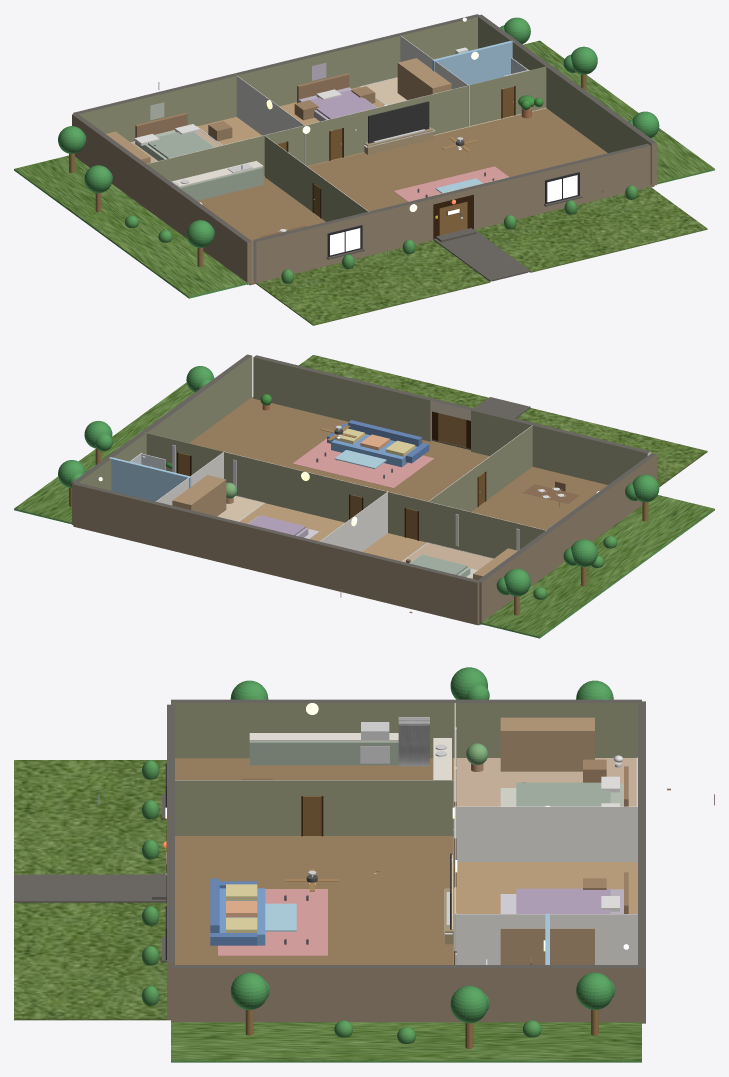
Rendered from casa_domotica_blender.glb.
The picture shows the model from 3 angles, top to bottom: view 1: azimuth 30°, elevation 25°; view 2: azimuth 150°, elevation 25°; view 3: azimuth 270°, elevation 25°; orthographic projection. The views are drawn at different scales.
Visible parts, largest first — view 1: floor_main, wall_ext_N, lawn_front_left, lawn_front_right, garden_left, wall_ext_W, wall_ext_SL, wall_ext_SR, wall_ext_E, garden_right, room2_wall_S_segR, room1_wall_S_segL (+32 smaller); view 2: wall_ext_N, floor_main, garden_left, wall_ext_SR, wall_ext_W, wall_ext_SL, wall_ext_E, room2_wall_S_segR, room1_wall_S_segL, lawn_front_left, garden_right, lawn_front_right (+29 smaller); view 3: floor_main, wall_ext_E, garden_right, wall_ext_W, lawn_front_right, lawn_front_left, room1_wall_E, living_wall_W_segR, living_wall_W_segL, room2_floor, bath_wall_E, r1_wardrobe (+22 smaller).
Part boxes in pixels (x1,y1,x2,y2): floor_main: (197,108,654,285); wall_ext_N: (73,14,478,142); lawn_front_left: (256,240,490,325); lawn_front_right: (475,187,707,272); garden_left: (14,155,247,297); wall_ext_W: (72,114,252,284); wall_ext_SL: (253,196,433,283); wall_ext_SR: (471,143,650,229); wall_ext_E: (477,14,656,185); garden_right: (523,40,714,184); room2_wall_S_segR: (343,85,467,156); room1_wall_S_segL: (147,133,274,181); wall_ext_N: (73,482,480,625); floor_main: (179,397,607,624); garden_left: (480,495,714,637); wall_ext_SR: (253,355,432,441); wall_ext_W: (478,453,656,624); wall_ext_SL: (471,408,650,484); wall_ext_E: (72,354,252,524); room2_wall_S_segR: (225,452,349,522); room1_wall_S_segL: (418,499,546,558); lawn_front_left: (516,408,707,486); garden_right: (14,382,194,522); lawn_front_right: (299,355,488,408); floor_main: (175,758,453,964); wall_ext_E: (171,965,641,1022); garden_right: (171,1022,641,1061); wall_ext_W: (171,699,641,758); lawn_front_right: (14,902,170,1020); lawn_front_left: (14,760,166,874); room1_wall_E: (453,806,637,861); living_wall_W_segR: (322,780,453,835); living_wall_W_segL: (175,780,301,835); room2_floor: (453,862,637,913); bath_wall_E: (453,914,637,964); r1_wardrobe: (500,717,594,771).
Bounding box in the file's own units: 52 × 4.84 × 44.65.
97 materials, 2 textured.
